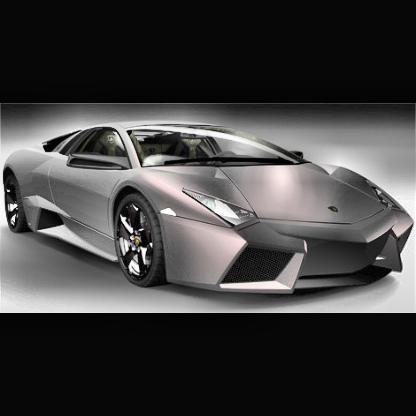Lamborghini Reventon Coupe 2008: (4, 120, 416, 299)
